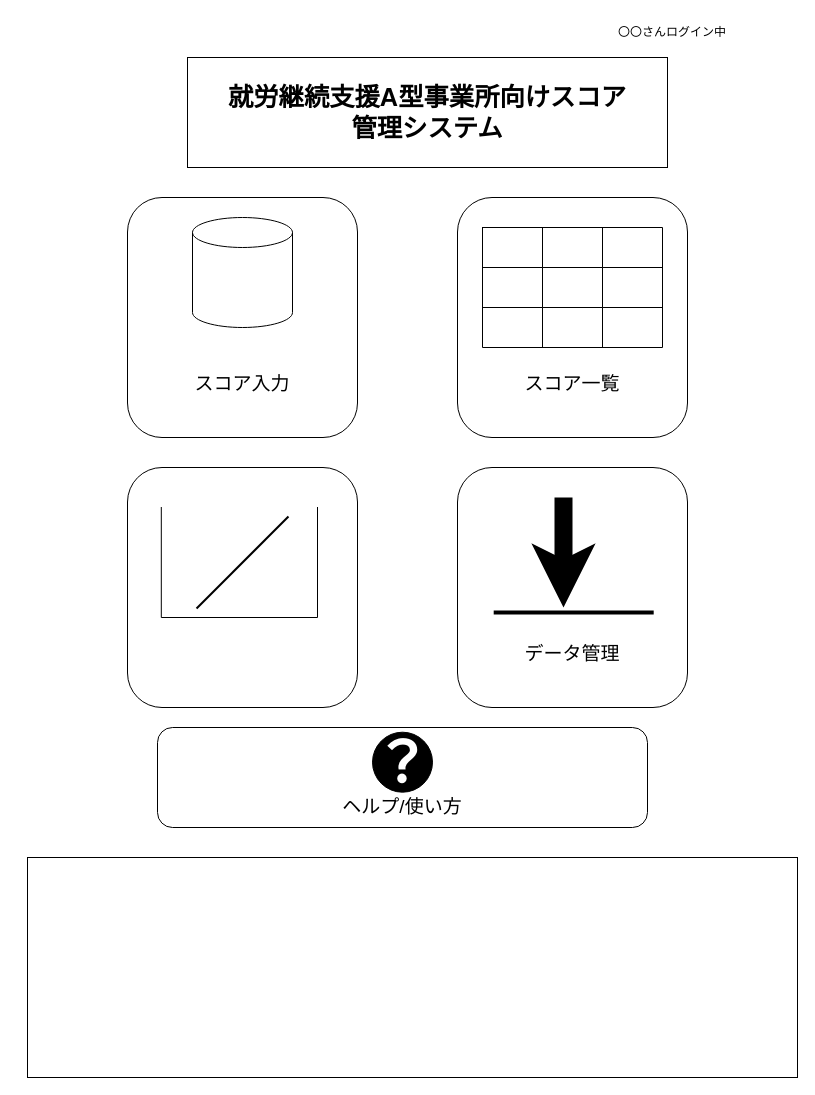
Some shapes in this 815 by 1095 pixel diagram are drawn without their labels. Each missing label, with the centre of its shape:
"お知らせ" belongs at pixel 412 967.
"集計/グラフ表示" belongs at pixel 242 587.
